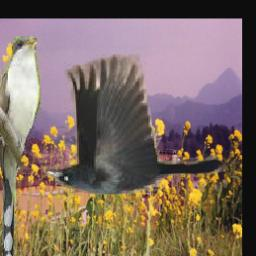Crow: (43, 55, 225, 197)
Cuckoo: (0, 36, 42, 256)
